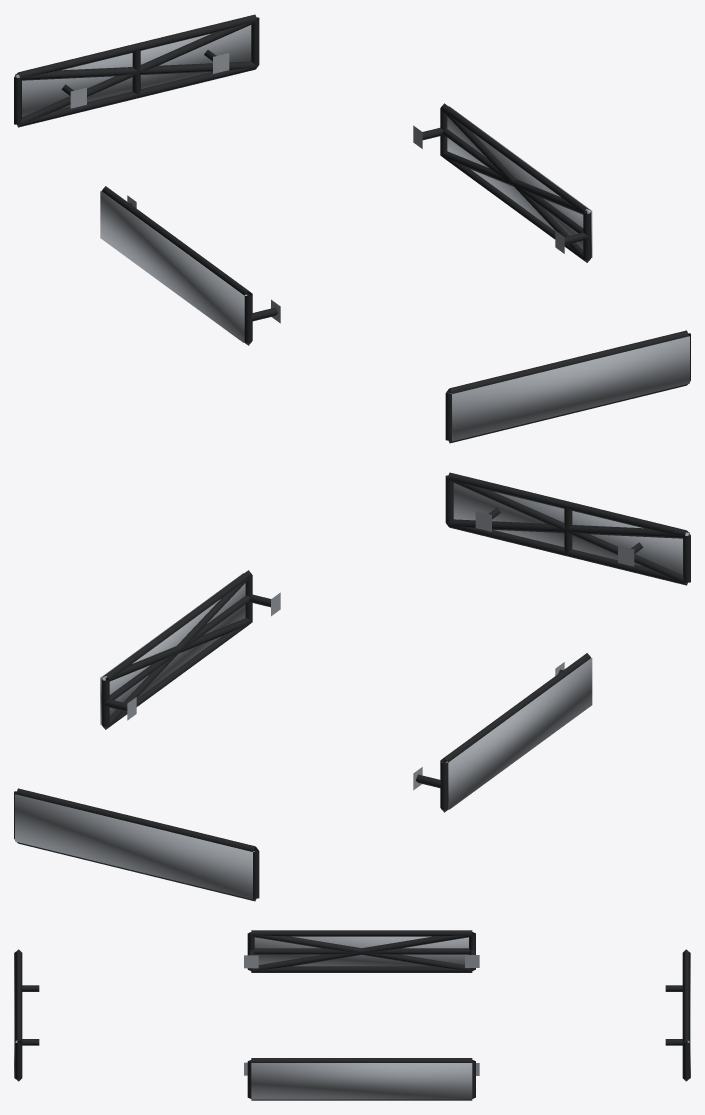
The model's file is ridgeway_rochedo_protecao.glb.
3 renders of one model, top to bottom at view 1: azimuth 30°, elevation 25°; view 2: azimuth 150°, elevation 25°; view 3: azimuth 270°, elevation 25°, orthographic. The views are drawn at different scales.
Visible parts, largest first — view 1: Protection_front_Level3_Details, Protection_left_Level3_Details, Protection_rear_Level3_Details, Protection_rear_Level1_Details, Protection_rear_Level2_Details, Protection_right_Level1_Details, Protection_right_Level2_Details, Protection_right_Level3_Details, Protection_front_Level1_Details, Protection_left_Level1_Details; view 2: Protection_rear_Level3_Details, Protection_left_Level3_Details, Protection_front_Level3_Details, Protection_front_Level1_Details, Protection_front_Level2_Details, Protection_right_Level1_Details, Protection_right_Level2_Details, Protection_right_Level3_Details, Protection_rear_Level1_Details, Protection_left_Level1_Details; view 3: Protection_right_Level3_Details, Protection_left_Level2_Details, Protection_left_Level3_Details, Protection_left_Level1_Details, Protection_right_Level1_Details, Protection_rear_Level1_Details, Protection_front_Level1_Details.
Part boxes in pixels (left/top/right/bottom): Protection_front_Level3_Details: left=450, top=336, right=689, bottom=441; Protection_left_Level3_Details: left=100, top=191, right=247, bottom=342; Protection_rear_Level3_Details: left=15, top=25, right=251, bottom=116; Protection_rear_Level1_Details: left=14, top=14, right=259, bottom=127; Protection_rear_Level2_Details: left=16, top=20, right=257, bottom=126; Protection_right_Level1_Details: left=413, top=103, right=591, bottom=262; Protection_right_Level2_Details: left=440, top=109, right=590, bottom=262; Protection_right_Level3_Details: left=447, top=106, right=592, bottom=257; Protection_front_Level1_Details: left=445, top=330, right=690, bottom=443; Protection_left_Level1_Details: left=102, top=186, right=280, bottom=345; Protection_rear_Level3_Details: left=15, top=794, right=254, bottom=899; Protection_left_Level3_Details: left=445, top=658, right=592, bottom=809; Protection_front_Level3_Details: left=453, top=483, right=689, bottom=574; Protection_front_Level1_Details: left=445, top=472, right=690, bottom=585; Protection_front_Level2_Details: left=447, top=478, right=688, bottom=584; Protection_right_Level1_Details: left=101, top=570, right=280, bottom=729; Protection_right_Level2_Details: left=102, top=576, right=252, bottom=729; Protection_right_Level3_Details: left=100, top=573, right=245, bottom=724; Protection_rear_Level1_Details: left=14, top=788, right=259, bottom=901; Protection_left_Level1_Details: left=413, top=653, right=590, bottom=812; Protection_right_Level3_Details: left=251, top=1063, right=472, bottom=1099; Protection_left_Level2_Details: left=251, top=932, right=472, bottom=970; Protection_left_Level3_Details: left=254, top=936, right=468, bottom=966; Protection_left_Level1_Details: left=244, top=930, right=479, bottom=972; Protection_right_Level1_Details: left=244, top=1058, right=479, bottom=1100; Protection_rear_Level1_Details: left=665, top=949, right=689, bottom=1081; Protection_front_Level1_Details: left=15, top=949, right=39, bottom=1081.
Bounding box in the file's own units: 2.34 × 0.354 × 5.08.
Materials: 1 (1 with a texture image).
